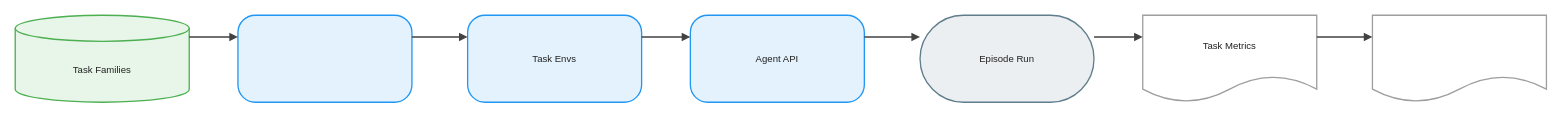
Image size: 1563x118. Some labels were removed from this diagram. Here are the shapes that lost their labels. From the top down, the centre of each, then its label:
At point (324, 58): "Data Prep".
At point (1459, 58): "Bench Score".
